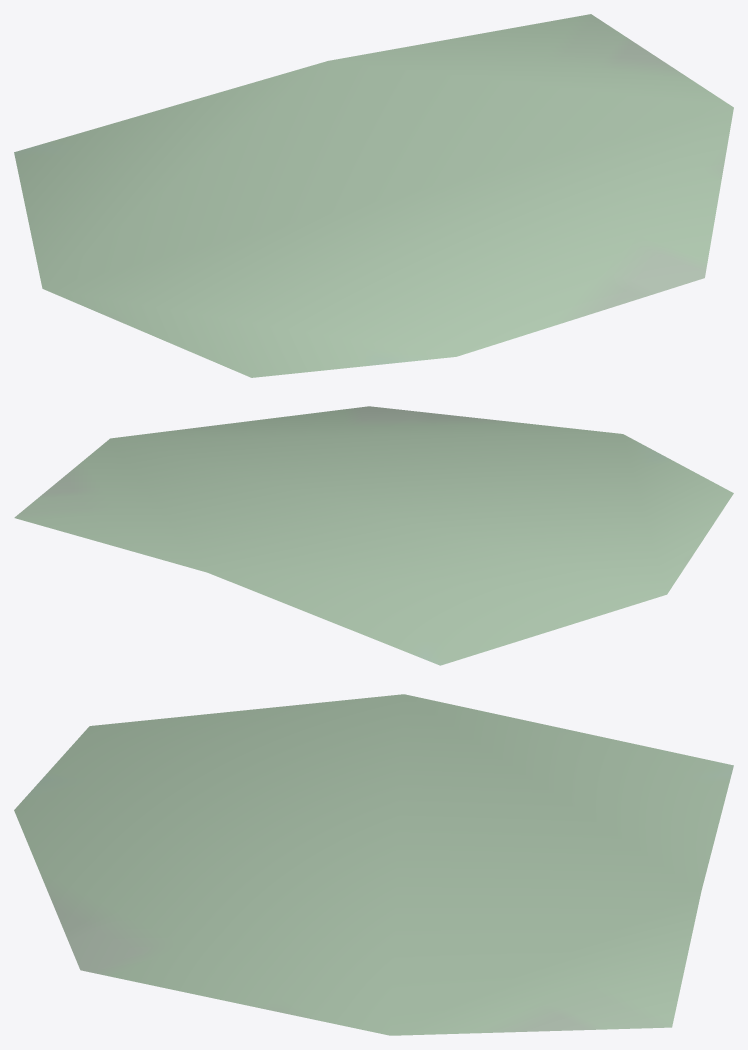
File: TROLLHOLE02_HOLECAP216.fbx
3 views of the same model, one above another, from view 1: azimuth 30°, elevation 25°; view 2: azimuth 150°, elevation 25°; view 3: azimuth 270°, elevation 25° (orthographic). The views are drawn at different scales.
Parts seen in each view (by area): view 1: TROLLHOLE02_HOLECAP216; view 2: TROLLHOLE02_HOLECAP216; view 3: TROLLHOLE02_HOLECAP216.
Boxes of the visible parts, x1,y1,x2,y2 form: TROLLHOLE02_HOLECAP216: (14, 14, 733, 377); TROLLHOLE02_HOLECAP216: (14, 406, 733, 665); TROLLHOLE02_HOLECAP216: (14, 694, 733, 1035).
Size of the model in its own units: 17052 by 700 by 14341.
Materials: 1 (1 with a texture image).
